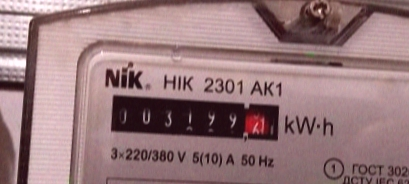0: (141, 107, 153, 126), (118, 106, 128, 125)
1: (185, 107, 196, 126)
3: (163, 108, 174, 129)
6: (251, 120, 262, 135)
9: (206, 108, 218, 128), (228, 111, 239, 130)
screen: (103, 84, 289, 152)
